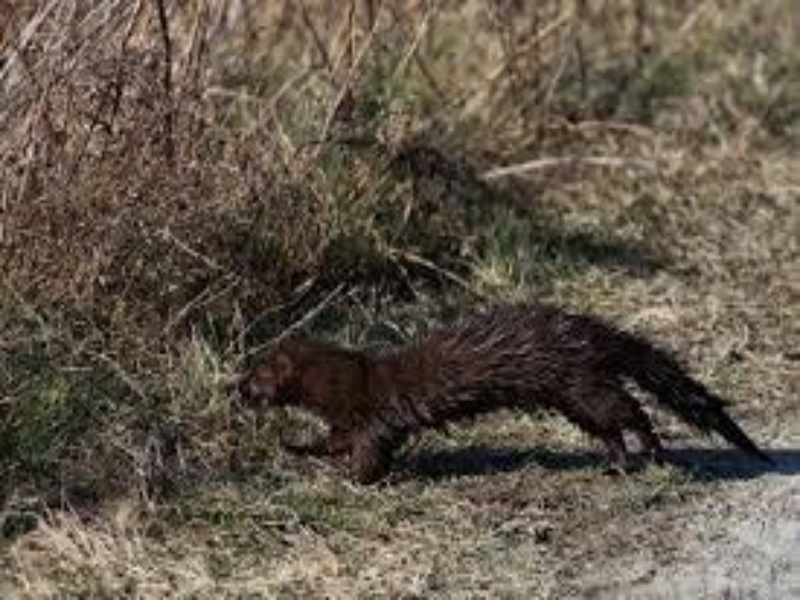minkish: (233, 297, 778, 473)
